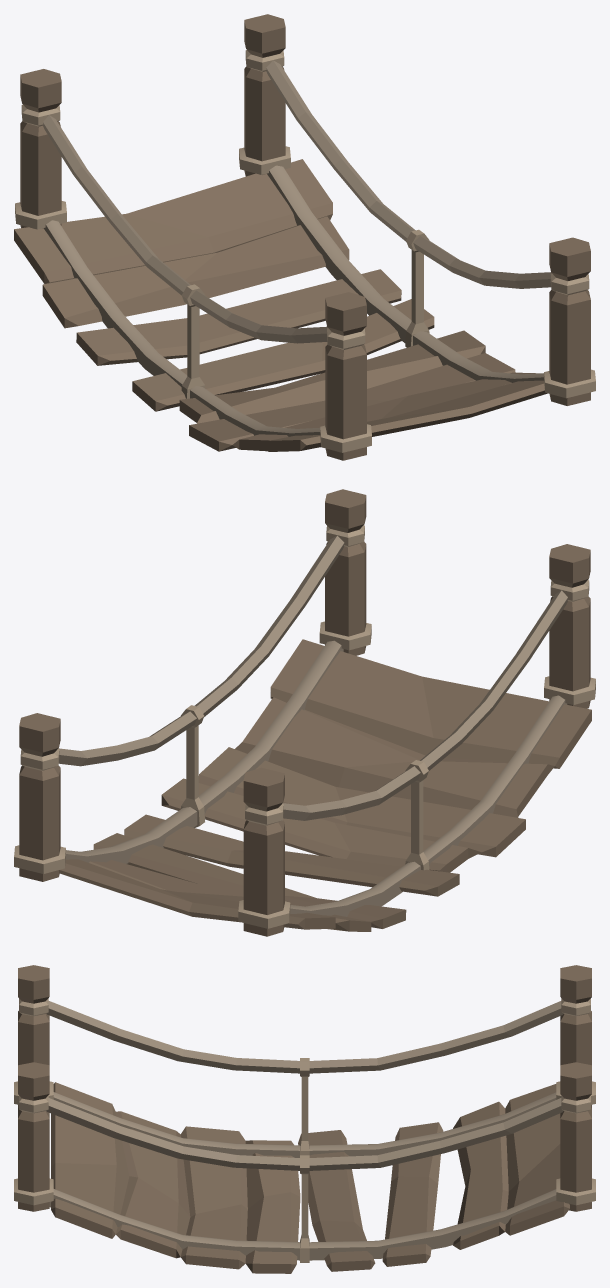
The model's file is SM_Bld_Dock_Bridge_01.glb.
3 renders of one model, top to bottom at view 1: azimuth 30°, elevation 25°; view 2: azimuth 150°, elevation 25°; view 3: azimuth 270°, elevation 25°, orthographic. The views are drawn at different scales.
Parts seen in each view (by area): view 1: node_id4; view 2: node_id4; view 3: node_id4.
Boxes of the visible parts, x1,y1,x2,y2 form: node_id4: (14, 14, 595, 460); node_id4: (14, 489, 595, 936); node_id4: (14, 965, 595, 1273).
Bounding box in the file's own units: 0.512 × 0.3551 × 0.9513.
1 material, 1 textured.
